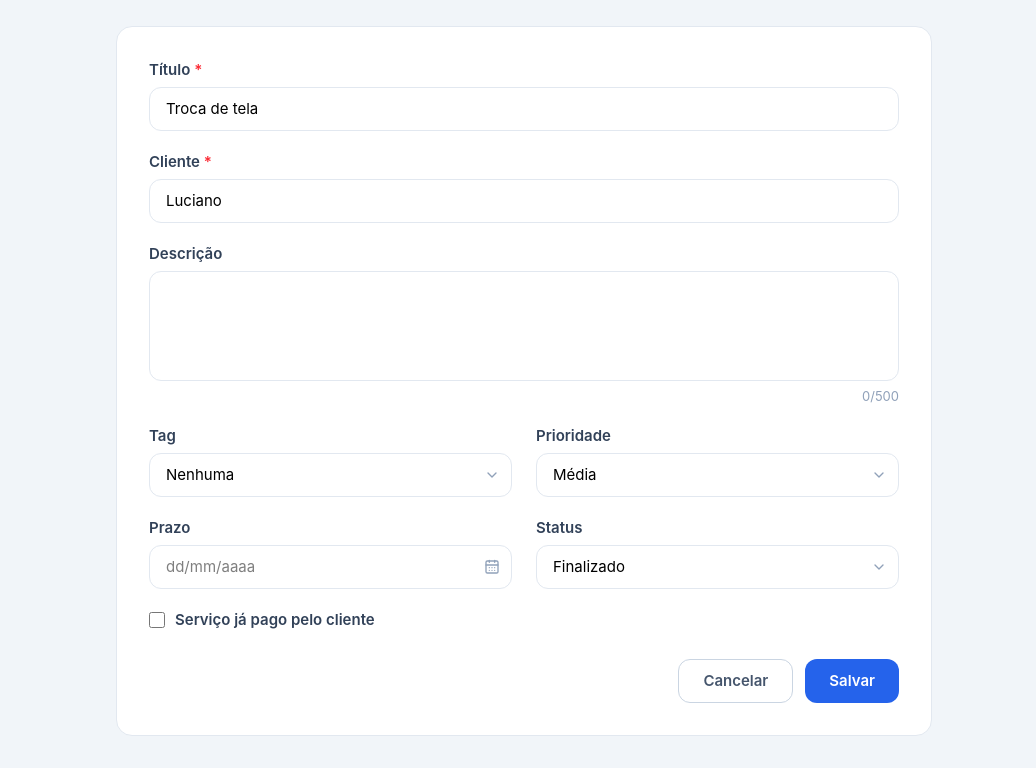
Editar Serviço salvando como Finalizado › editar um serviço que já estava finalizado não pergunta de novo
(page scrolled)
Expected: the dropdown labelled "Finalizado" is shown, [536,545,899,589]
What coordinates should you click on to do the following:
click the button "Salvar"
I would click on:
 (852, 681)
Its box is [805,659,899,703].
(page scrolled)
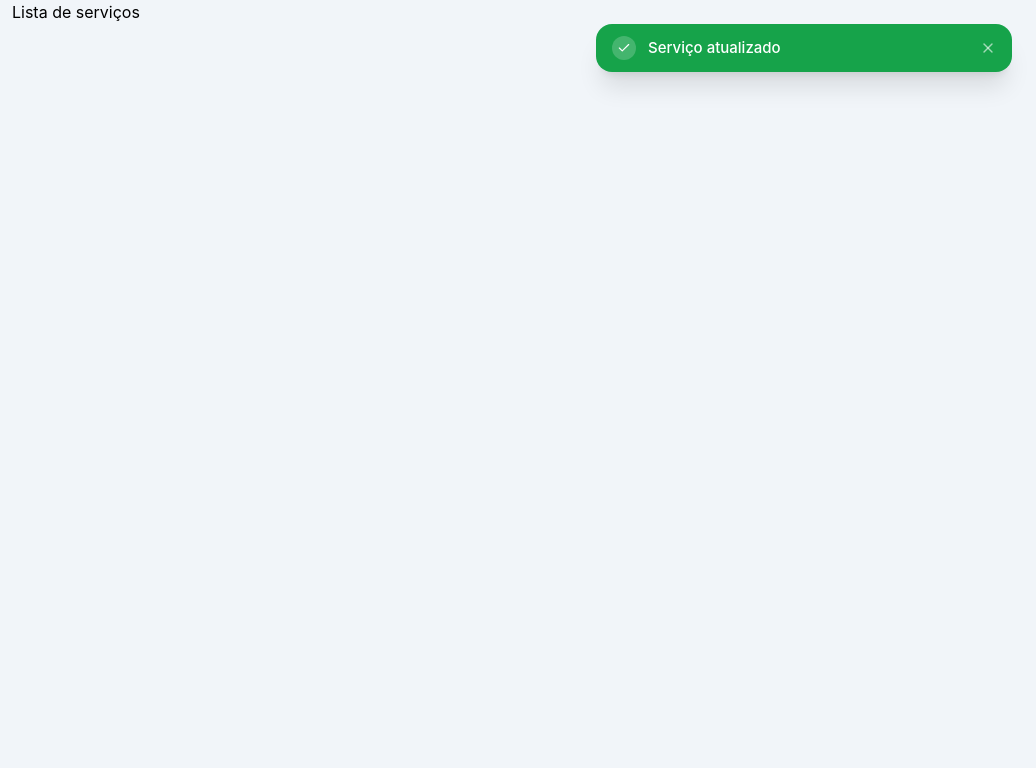
Expected: the text "Lista de serviços" is shown, [12,2,140,22]
